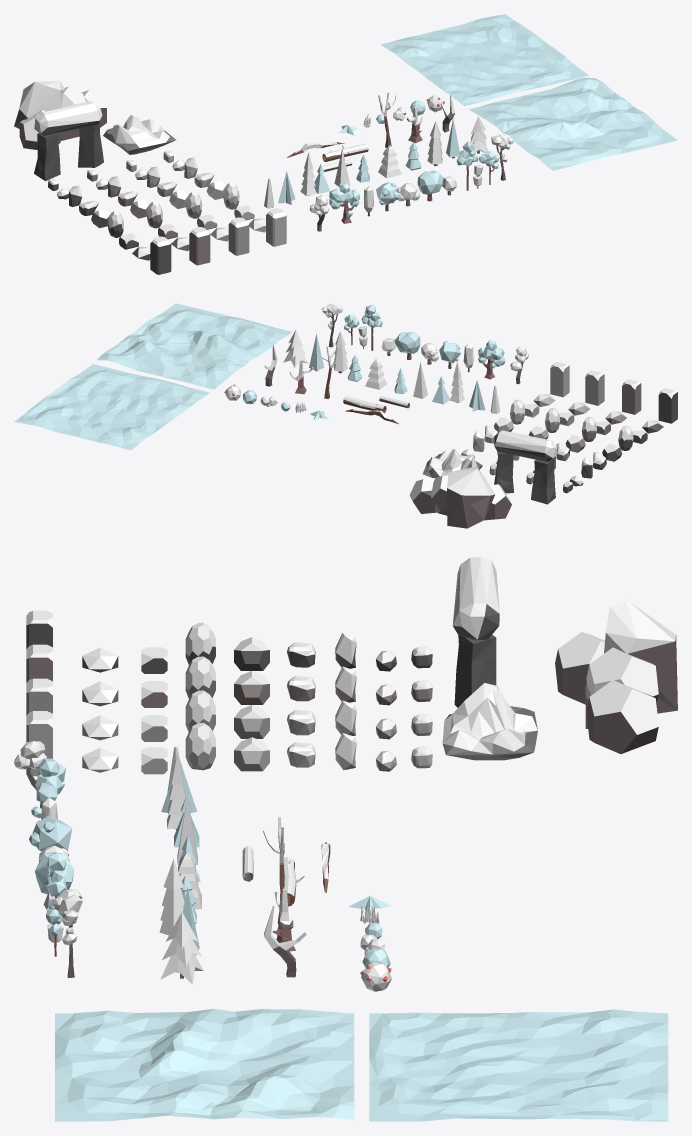
File: winter_pack.fbx
3 views of the same model, one above another, from view 1: azimuth 30°, elevation 25°; view 2: azimuth 150°, elevation 25°; view 3: azimuth 270°, elevation 25° (orthographic). The views are drawn at different scales.
Parts seen in each view (by area): view 1: plane, stone_1_5, stone_3_5, stone_2_5, grass, stone_9_3, stone_9_4, stone_9_2, tree_2, stone_9, tree_6, ctree_7 (+7 smaller); view 2: plane, stone_3_5, stone_1_5, stone_2_5, grass, stone_9, stone_9_4, stone_9_2, stone_9_3, tree_2, tree_6, ctree_11 (+7 smaller); view 3: plane, stone_3_5, stone_1_5, stone_2_5, grass, ctree_11, stone_6, ctree_9, tree_2, tree_11, tree_4, stone_5 (+12 smaller).
Boxes of the visible parts, x1,y1,x2,y2 form: plane: (380, 14, 677, 170); stone_1_5: (34, 101, 103, 181); stone_3_5: (14, 81, 106, 149); stone_2_5: (103, 115, 175, 154); grass: (338, 95, 444, 135); stone_9_3: (189, 227, 210, 265); stone_9_4: (150, 236, 171, 274); stone_9_2: (228, 217, 249, 255); tree_2: (329, 182, 359, 223); stone_9: (266, 208, 286, 246); tree_6: (417, 170, 443, 201); ctree_7: (378, 145, 401, 178); plane: (14, 303, 292, 450); stone_3_5: (409, 466, 511, 528); stone_1_5: (494, 430, 556, 504); stone_2_5: (422, 449, 482, 478); grass: (224, 384, 327, 420); stone_9: (550, 362, 569, 397); stone_9_4: (658, 388, 677, 423); stone_9_2: (585, 370, 604, 405); stone_9_3: (622, 379, 641, 414); tree_2: (478, 340, 505, 379); tree_6: (394, 332, 420, 359); ctree_11: (283, 330, 308, 367); plane: (55, 1008, 668, 1121); stone_3_5: (555, 599, 677, 754); stone_1_5: (452, 557, 499, 707); stone_2_5: (442, 683, 537, 760); grass: (348, 896, 391, 991); ctree_11: (160, 912, 203, 984); stone_6: (185, 722, 215, 770); ctree_9: (159, 859, 184, 935); tree_2: (31, 758, 65, 818); tree_11: (52, 889, 82, 977); tree_4: (29, 815, 72, 851); stone_5: (234, 737, 269, 771).
Bounding box in the file's own units: 10544 × 1289 × 6434.
